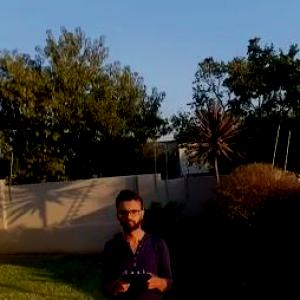follow: (98, 185, 180, 299)
